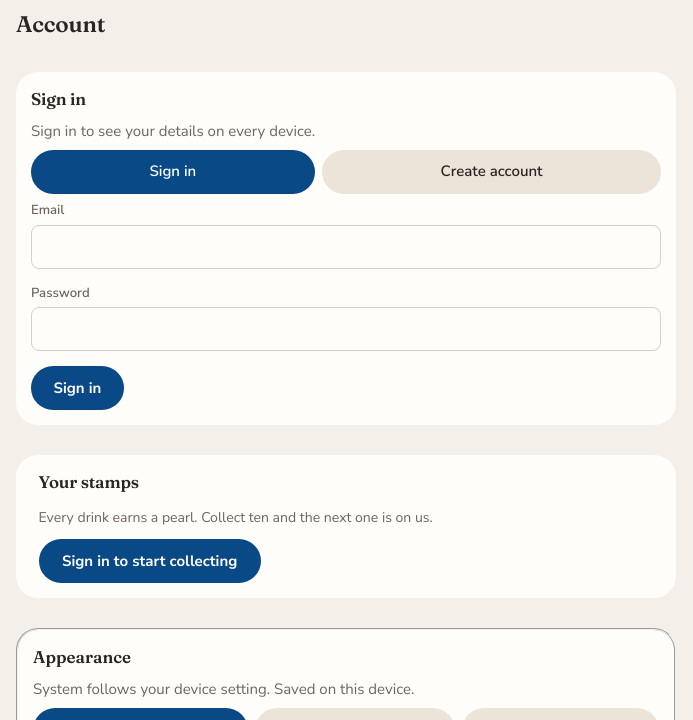
AccountPage › signed in › signs out and returns to the sign in card
The width and height of the screenshot is (693, 720).
Click the button "Create account" at (492,172), box [322,150,661,194]
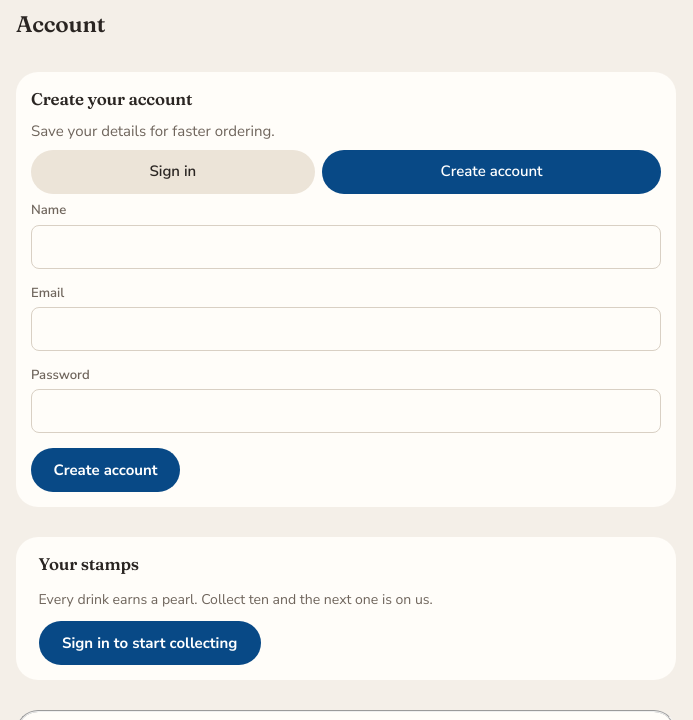
Type "Tristan" into the field labelled "Name" at (346,246), box [31,224,661,268]
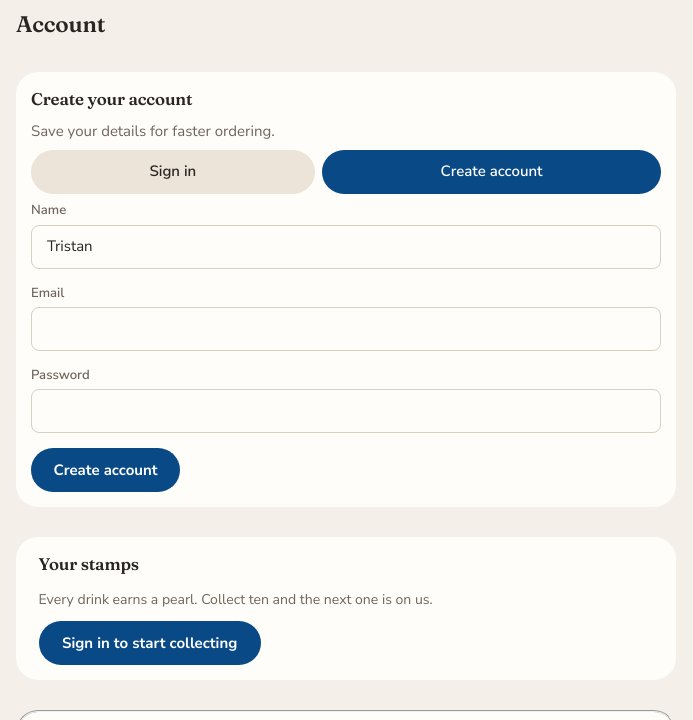
Type "tristan@example.com" into the field labelled "Email" at (346,329), box [31,307,661,351]
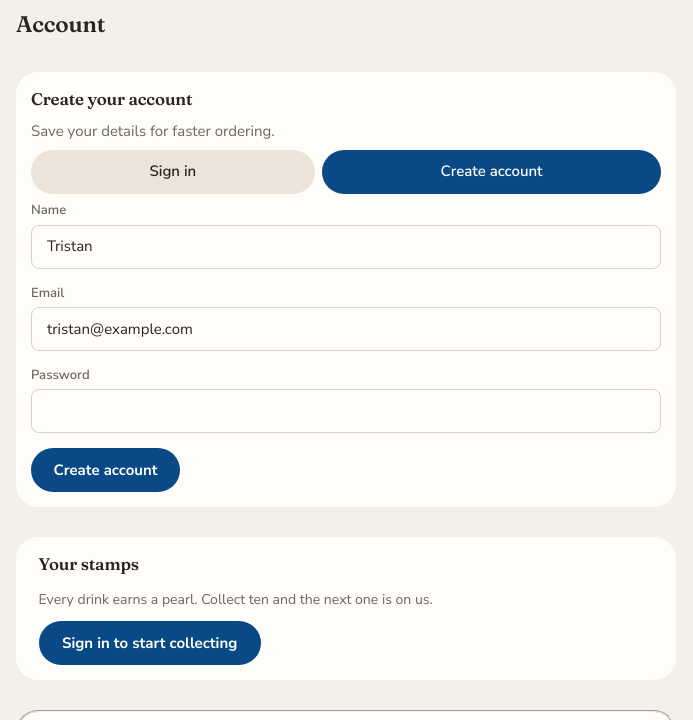
Type "correct horse" into the password field labelled "Password" at (346,411), box [31,389,661,433]
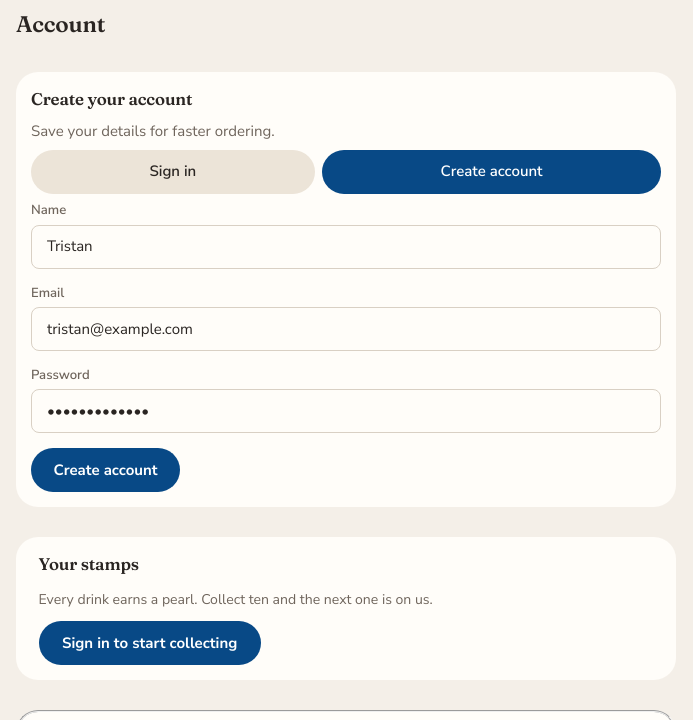
Submit the form from the button "Create account" below "Password", box [31,448,180,492]
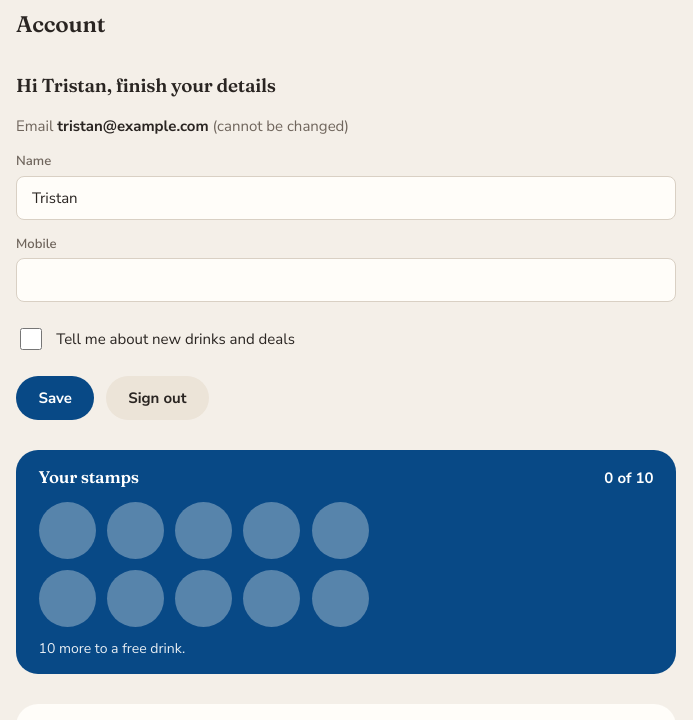
expect the heading "Hi Tristan, finish your details" is shown: met, box [16,74,276,97]
Click the button "Sign out" at (157,398), box [106,376,209,420]
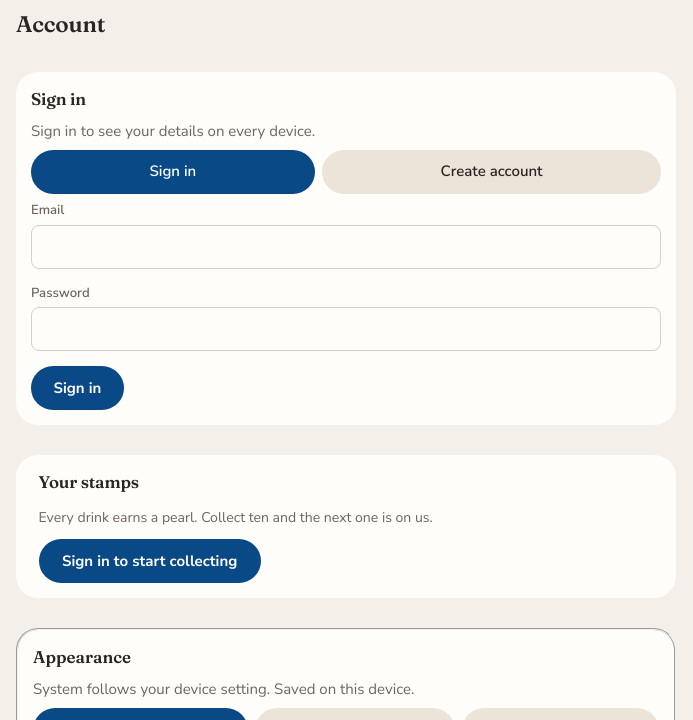
expect the heading "Sign in" is shown: met, box [31,89,86,109]
